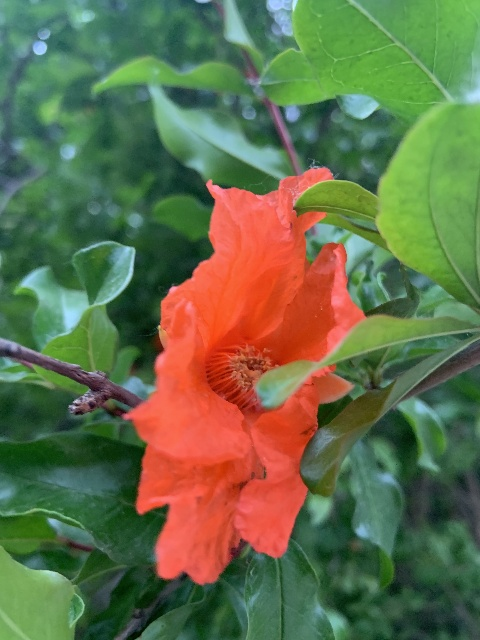flower: (122, 167, 366, 586)
